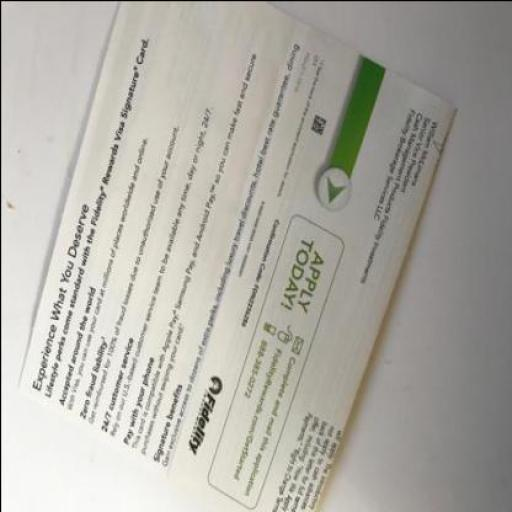paper: (15, 1, 455, 511)
